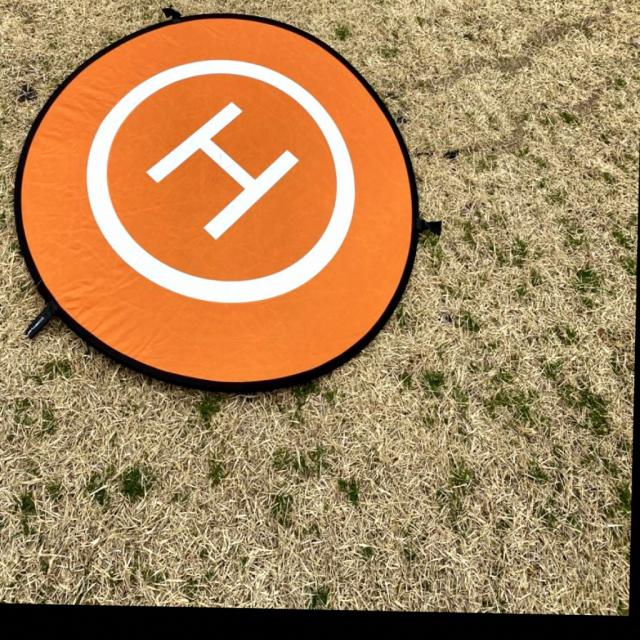helipad: (82, 55, 361, 308)
